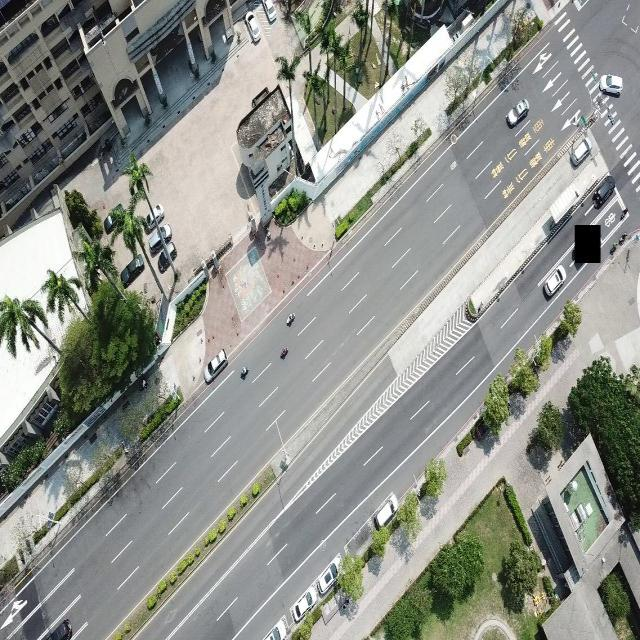bike: (620, 204, 630, 219), (618, 230, 629, 243), (608, 242, 618, 256), (286, 312, 295, 326), (240, 365, 248, 380), (280, 346, 288, 359)
car: (317, 553, 342, 597), (290, 584, 318, 623), (373, 492, 399, 531), (203, 348, 228, 384), (120, 253, 144, 287), (592, 174, 615, 209), (543, 264, 566, 298), (148, 223, 172, 254), (569, 135, 592, 166), (262, 614, 290, 639), (506, 98, 529, 128), (104, 202, 125, 234), (144, 203, 164, 233), (46, 617, 73, 639), (158, 241, 176, 273), (244, 10, 261, 43), (598, 73, 622, 96), (262, 0, 276, 23)
